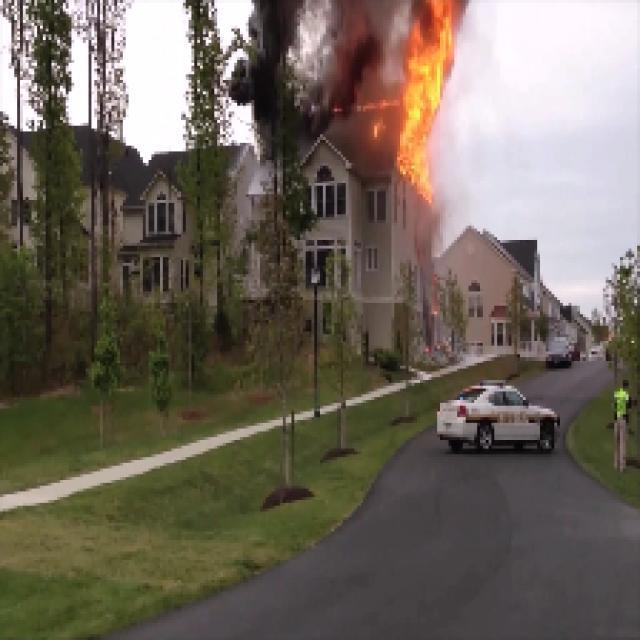Fire: (384, 16, 478, 190)
